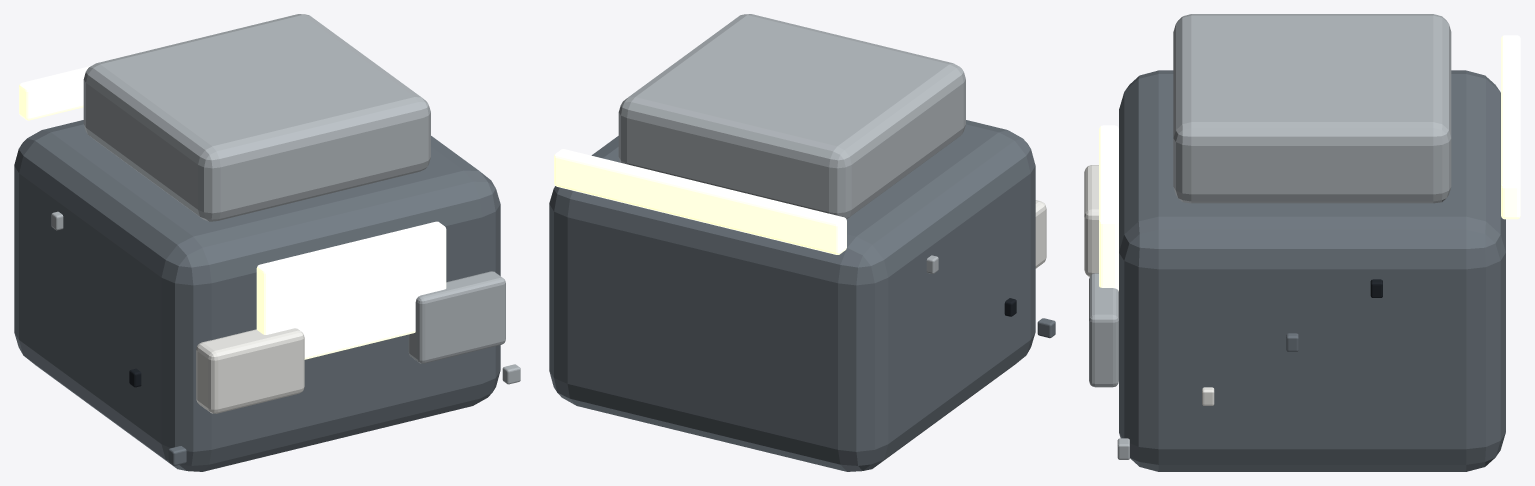
File: state_variant_shared-world-audio-elevator-arrived-standard-353.glb
The picture shows the model from 3 angles, left to right: view 1: azimuth 30°, elevation 25°; view 2: azimuth 150°, elevation 25°; view 3: azimuth 270°, elevation 25°; orthographic projection. The views are drawn at different scales.
Visible parts, largest first — view 1: component__base_object_relationship__base_relationship, component__state_defining_geometry__state_geometry, component__state_defining_material_layer__state_material, component__interaction_state__interaction_state, component__damage_or_repair_metadata__damage_metadata, component__lod_and_swap_policy__lod_swap; view 2: component__base_object_relationship__base_relationship, component__state_defining_geometry__state_geometry, component__lod_and_swap_policy__lod_swap, component__interaction_state__interaction_state; view 3: component__base_object_relationship__base_relationship, component__state_defining_geometry__state_geometry, component__lod_and_swap_policy__lod_swap, component__state_defining_material_layer__state_material, component__damage_or_repair_metadata__damage_metadata, component__interaction_state__interaction_state.
Part boxes in pixels (left/top/right/bottom): component__base_object_relationship__base_relationship: left=14, top=120, right=500, bottom=471; component__state_defining_geometry__state_geometry: left=83, top=14, right=430, bottom=221; component__state_defining_material_layer__state_material: left=256, top=221, right=446, bottom=359; component__interaction_state__interaction_state: left=196, top=328, right=304, bottom=413; component__damage_or_repair_metadata__damage_metadata: left=408, top=271, right=505, bottom=363; component__lod_and_swap_policy__lod_swap: left=19, top=66, right=90, bottom=120; component__base_object_relationship__base_relationship: left=549, top=120, right=1035, bottom=471; component__state_defining_geometry__state_geometry: left=618, top=14, right=965, bottom=219; component__lod_and_swap_policy__lod_swap: left=554, top=149, right=846, bottom=254; component__interaction_state__interaction_state: left=1035, top=200, right=1046, bottom=268; component__base_object_relationship__base_relationship: left=1119, top=70, right=1505, bottom=471; component__state_defining_geometry__state_geometry: left=1173, top=14, right=1451, bottom=203; component__lod_and_swap_policy__lod_swap: left=1501, top=35, right=1520, bottom=219; component__state_defining_material_layer__state_material: left=1099, top=125, right=1118, bottom=291; component__damage_or_repair_metadata__damage_metadata: left=1089, top=273, right=1118, bottom=387; component__interaction_state__interaction_state: left=1084, top=165, right=1098, bottom=276.
Size of what is drawn, in the model's own units: 0.875 by 0.73 by 0.88.
